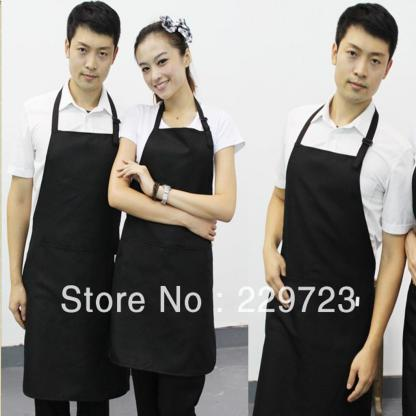face: (338, 27, 389, 105), (70, 21, 117, 90), (137, 39, 186, 99)
